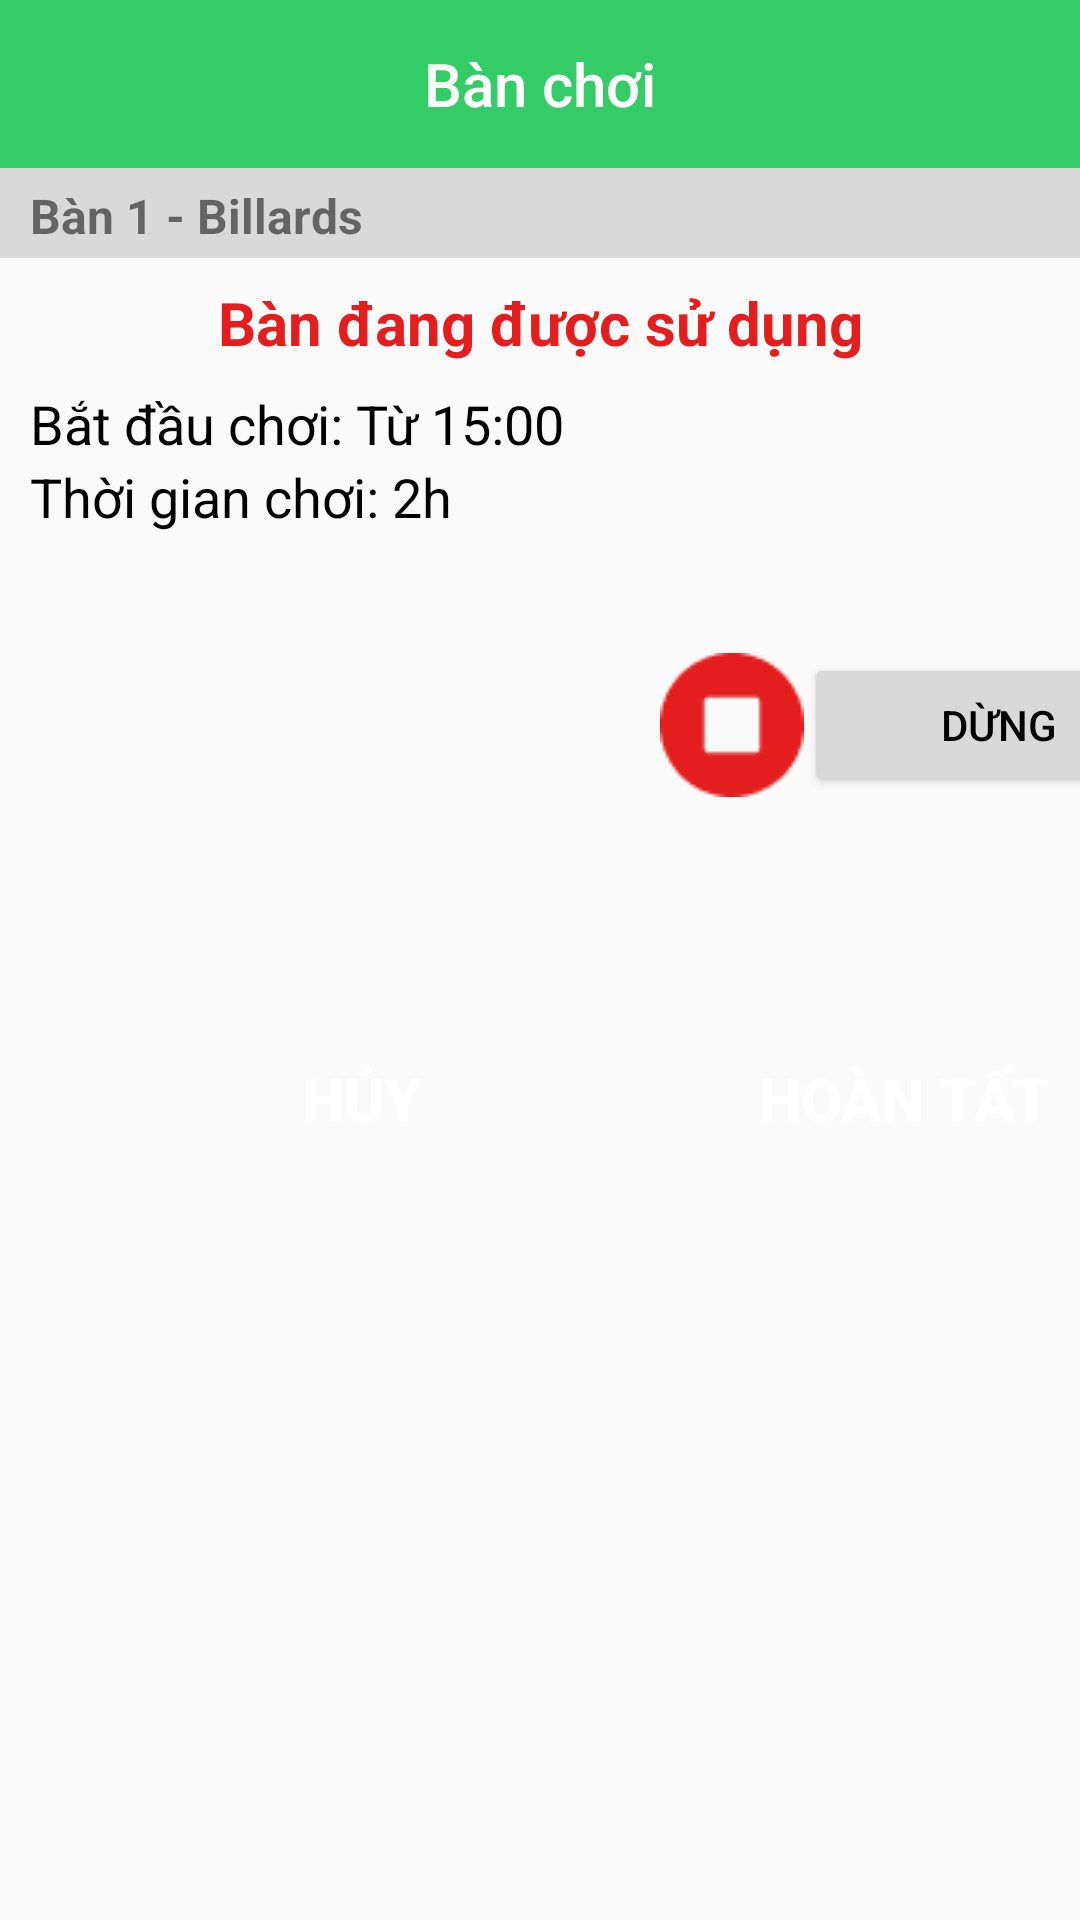

Screen size 1080×1920. Icon name, then its center in pixels as [x,y]:
dung: [732,725]
